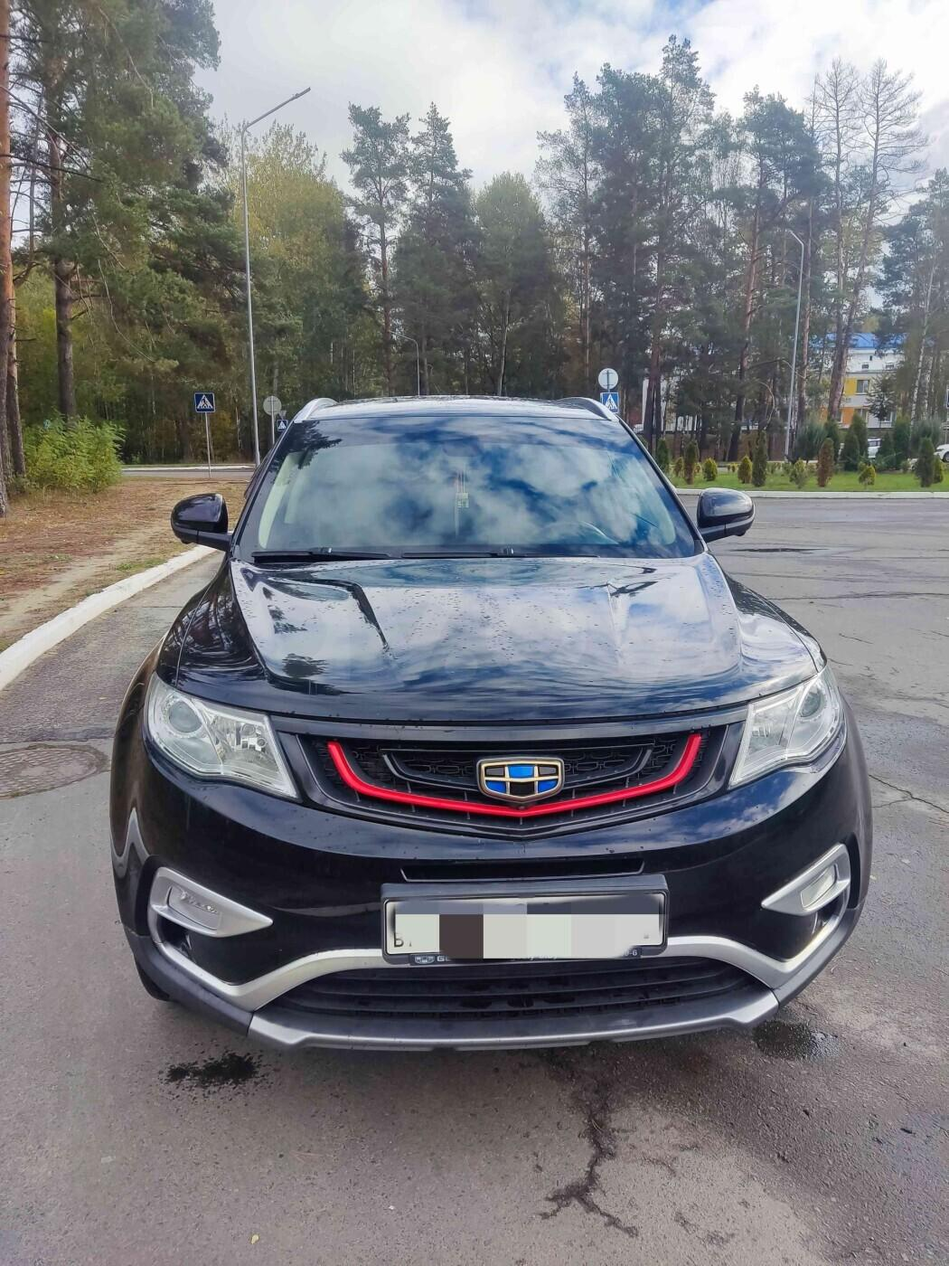Atlas_2016-2023: (108, 392, 879, 1080)
